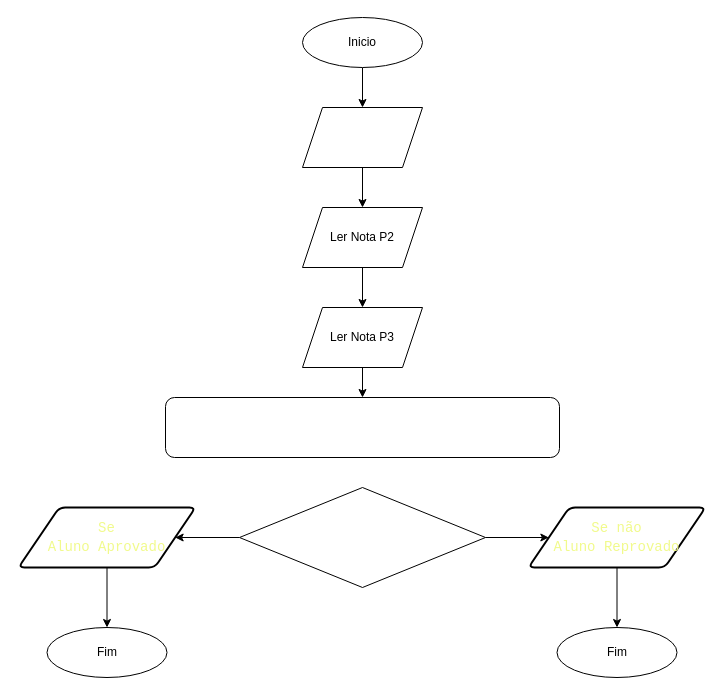
Some shapes in this 723 by 695 pixel diagram are drawn without their labels. The centre of each missing label's shape, as x and y in pixels:
Ler Nota P1: (x=362, y=137)
media = (p1 * 1 + p2 * 1 + p3 * 2) / 3;: (x=362, y=427)
media > 60: (x=362, y=537)
